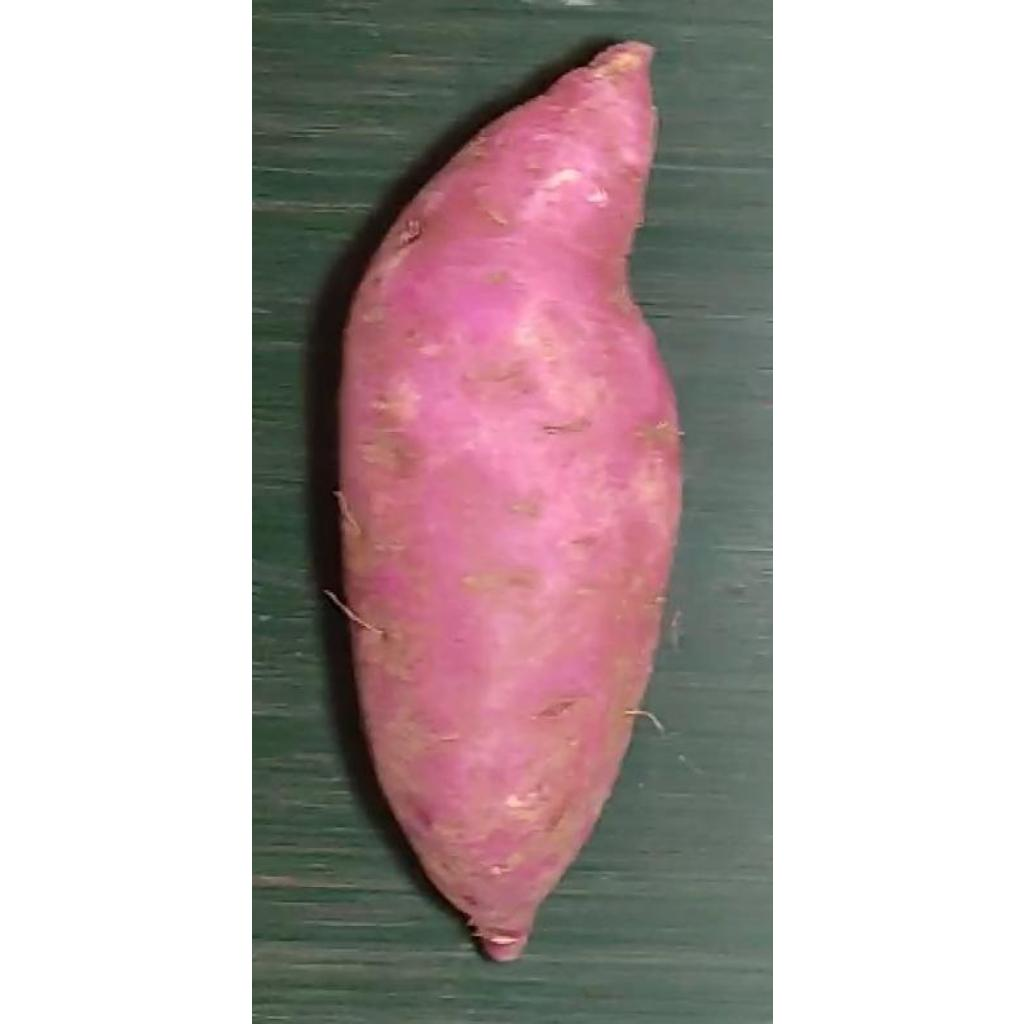Sweet Potato: (336, 41, 682, 955)
